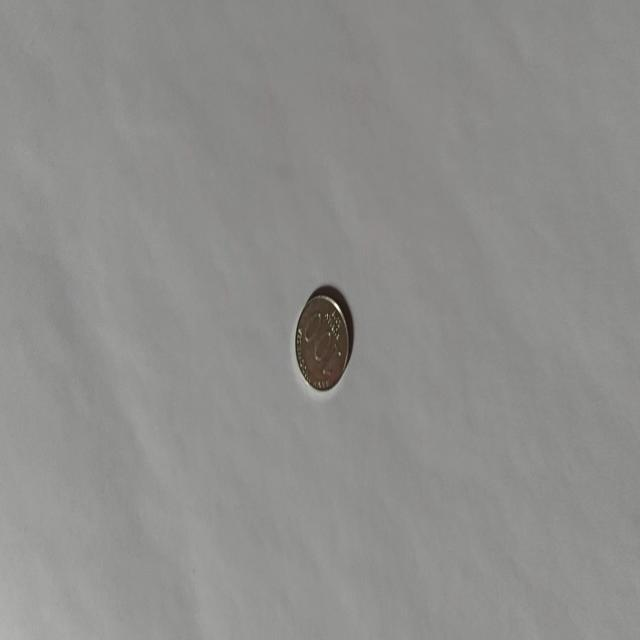seratus rupiah: (294, 292, 350, 392)
